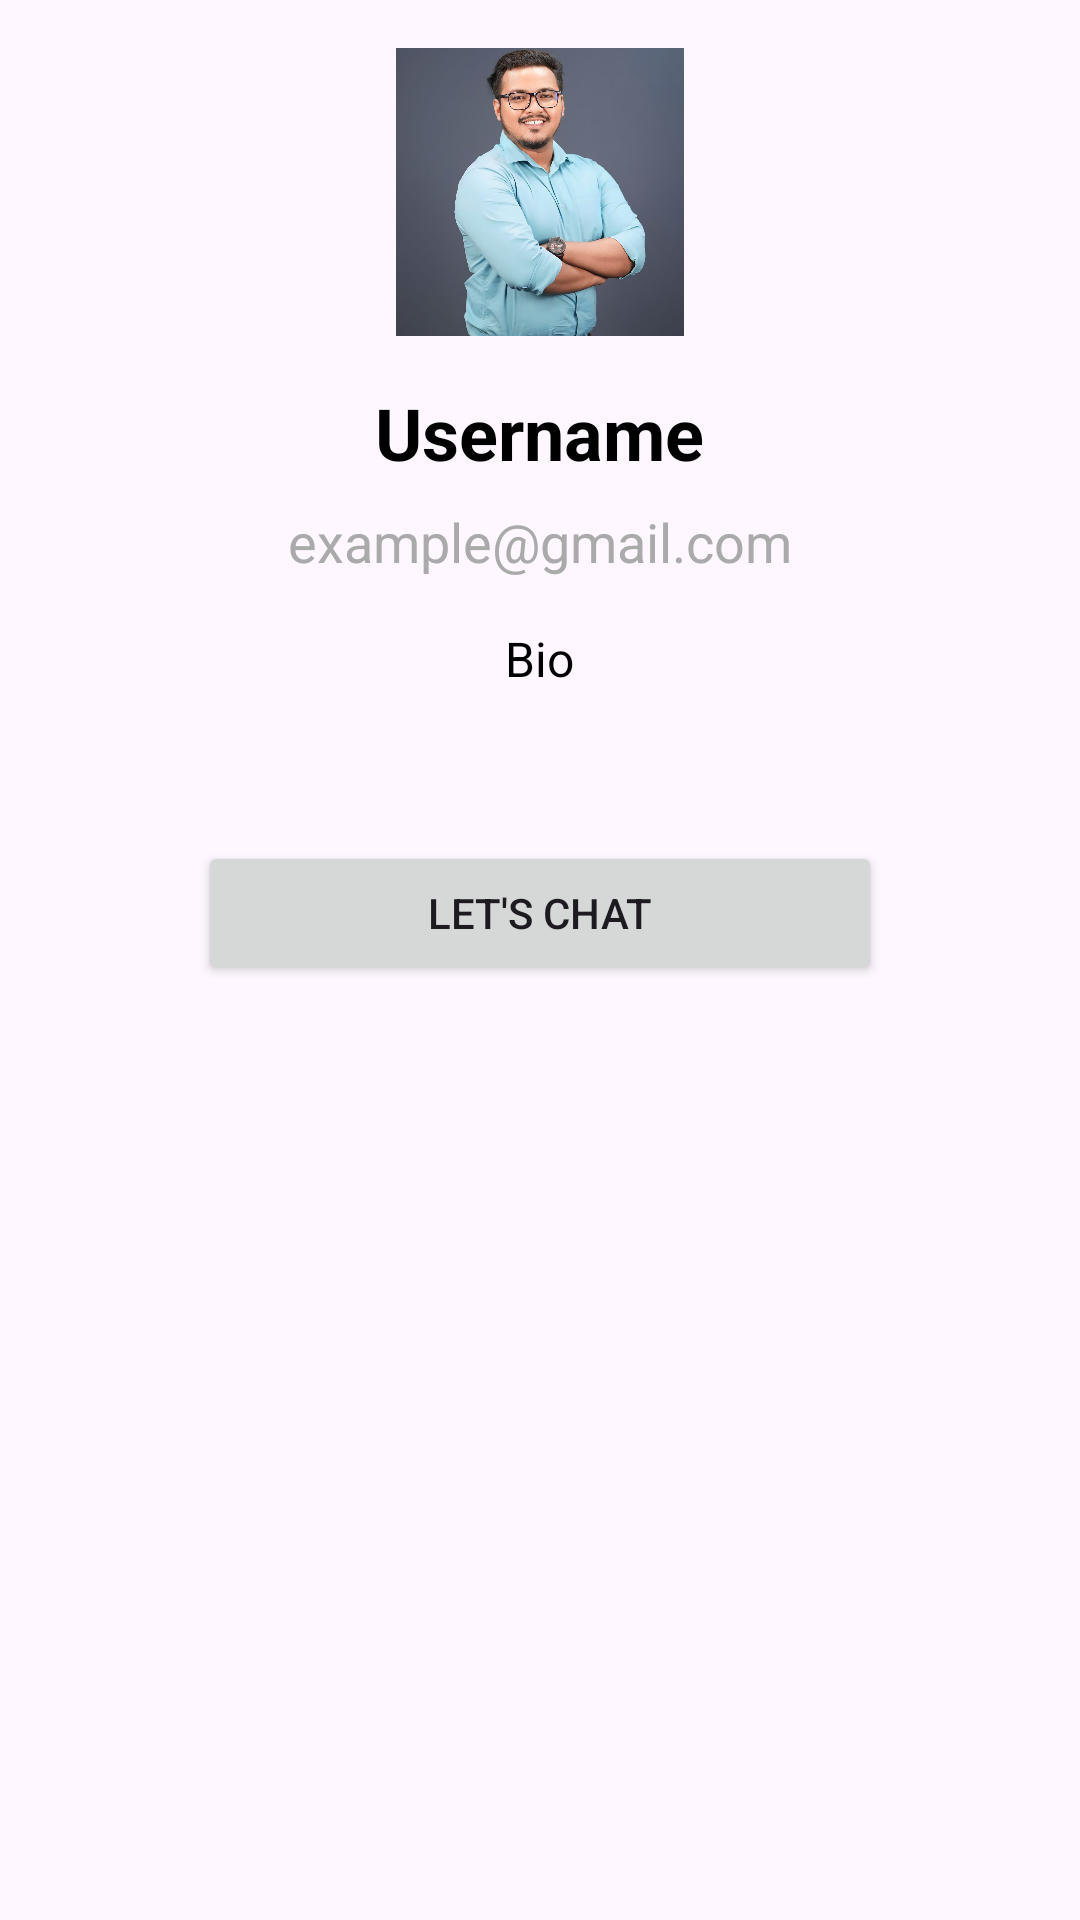

Icons on this 1080px×1920px Android screen, each with its box as (x1, y1, x2, y2):
Profile Image: (396, 48, 684, 336)
